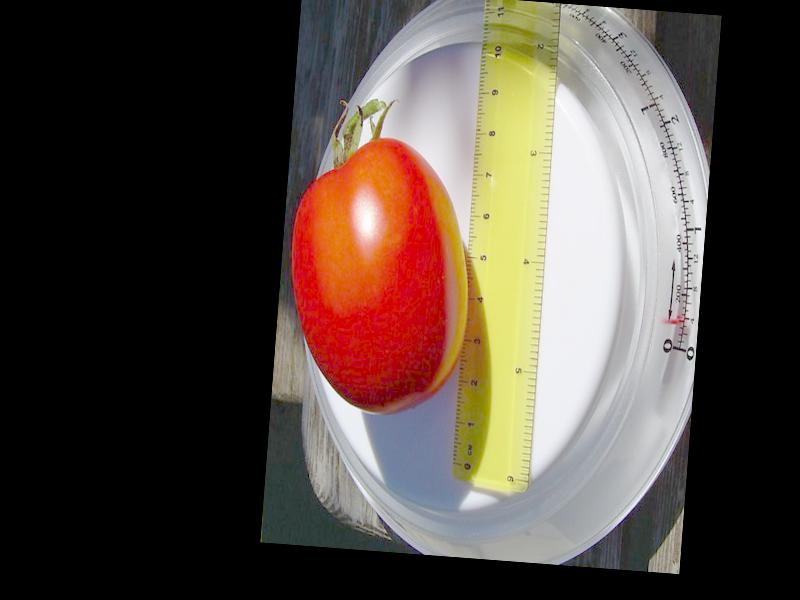Tomato: (278, 130, 484, 418)
